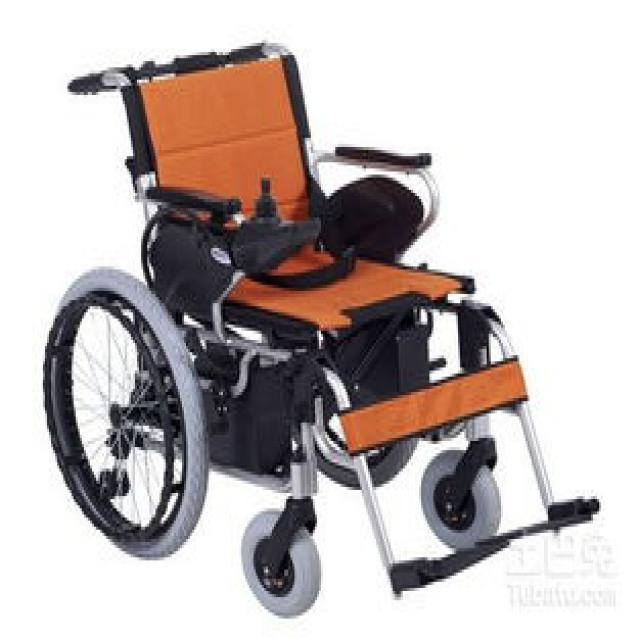wheelchair: (39, 30, 606, 616)
